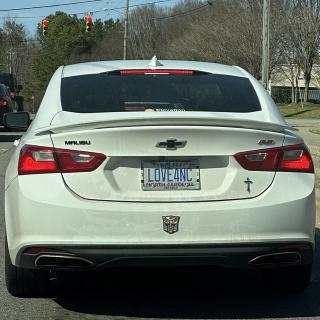license: (142, 160, 201, 192)
